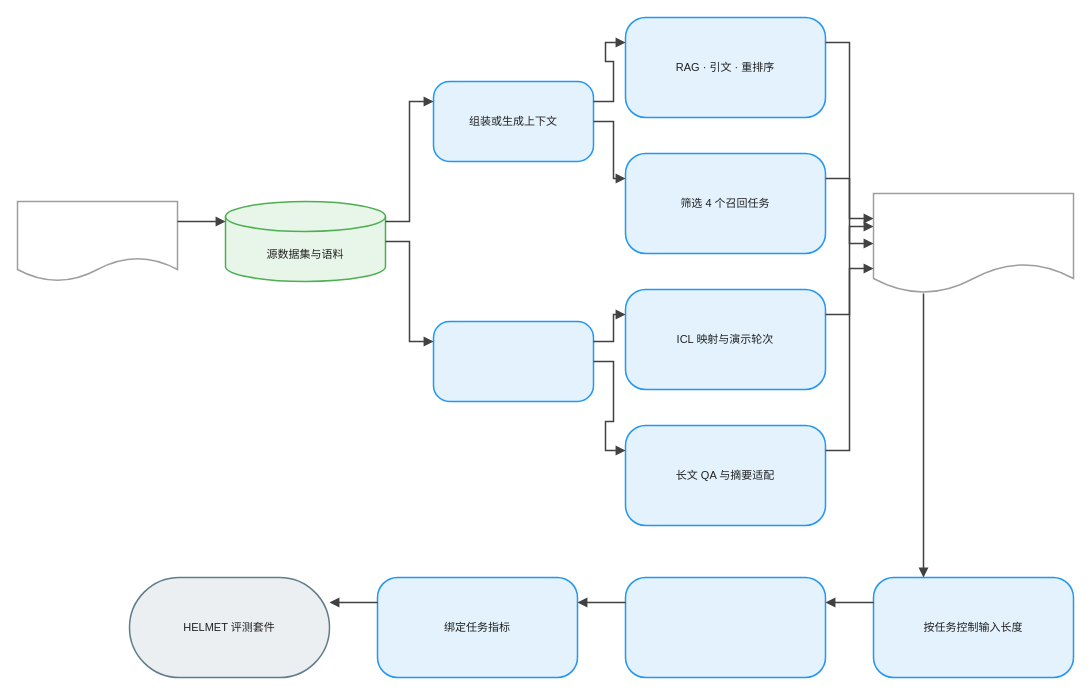
Some shapes in this 1092 by 696 pixel diagram are drawn without their labels. Here are the shapes that lost their labels. From the top down, the centre of each, then its label:
At point (97, 241): "三项设计目标".
At point (973, 243): "7 类 · 21 个任务项".
At point (513, 361): "加载并适配原任务".
At point (725, 627): "统一稳健提示".
